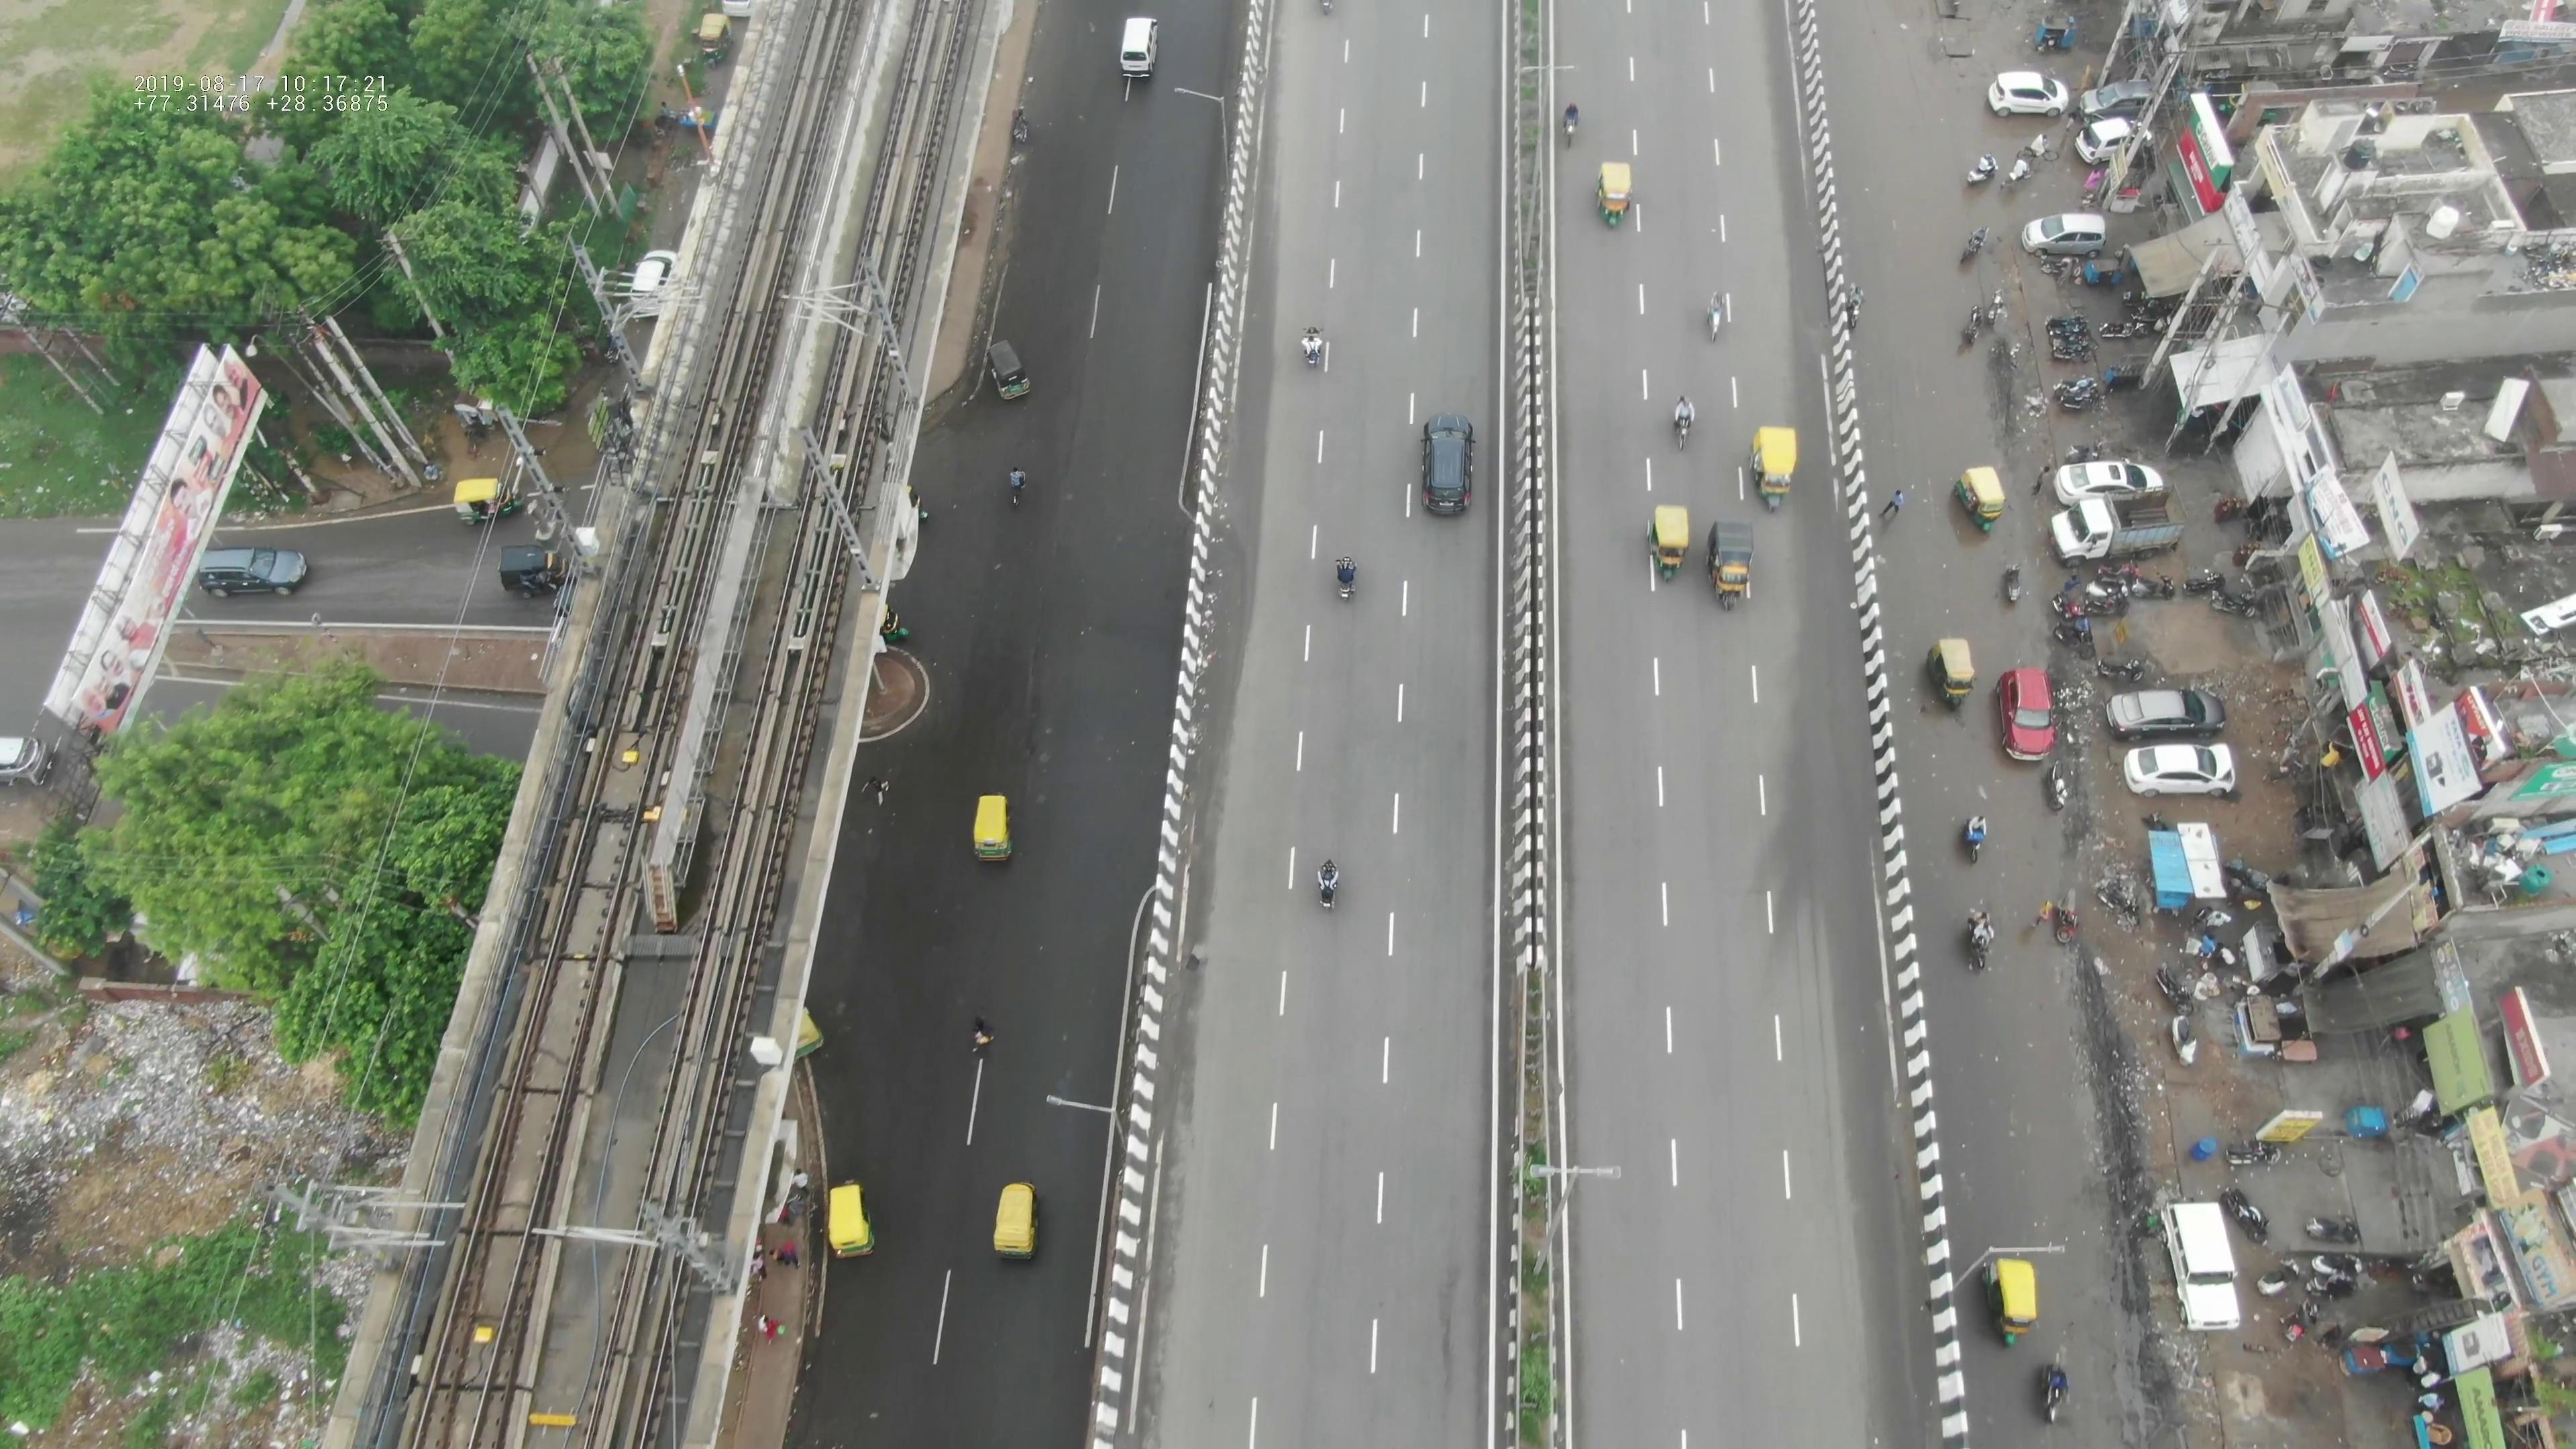Muddy_road: (2063, 954, 2160, 1323), (1987, 338, 2038, 458)
